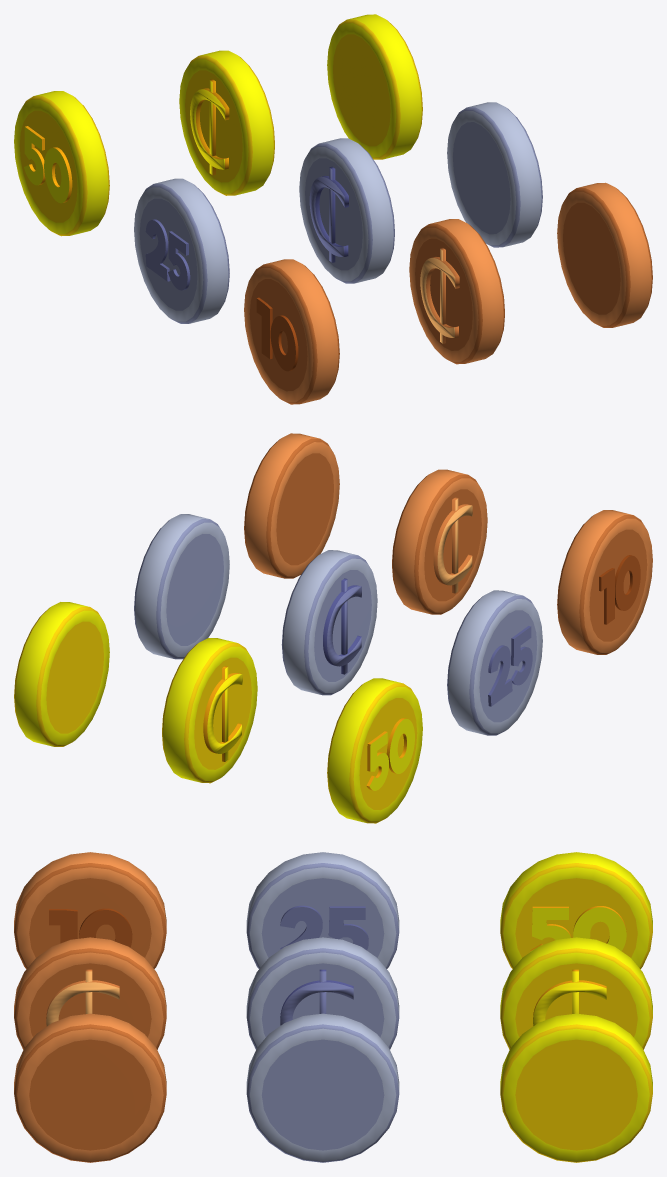
Rendered from cashierrun.coins.fbx.
3 views of the same model, one above another, from view 1: azimuth 30°, elevation 25°; view 2: azimuth 150°, elevation 25°; view 3: azimuth 270°, elevation 25° (orthographic). The views are drawn at different scales.
Visible parts, largest first — view 1: cashierrun_collectible.coin.silver, cashierrun_coin.c.silver, cashierrun_collectible.coin.bronze, cashierrun_coin.c.bronze, cashierrun_coin.flat.bronze, cashierrun_collectible.coin.gold, cashierrun_coin.c.gold, cashierrun_coin.flat.silver, cashierrun_coin.flat.gold; view 2: cashierrun_coin.c.silver, cashierrun_collectible.coin.gold, cashierrun_collectible.coin.bronze, cashierrun_coin.c.gold, cashierrun_coin.flat.gold, cashierrun_collectible.coin.silver, cashierrun_coin.c.bronze, cashierrun_coin.flat.bronze, cashierrun_coin.flat.silver; view 3: cashierrun_coin.flat.silver, cashierrun_coin.flat.bronze, cashierrun_coin.flat.gold, cashierrun_collectible.coin.silver, cashierrun_collectible.coin.bronze, cashierrun_collectible.coin.gold, cashierrun_coin.c.silver, cashierrun_coin.c.bronze, cashierrun_coin.c.gold.
Boxes of the visible parts, <box> form: cashierrun_collectible.coin.silver: <box>134,178,229,323</box>; cashierrun_coin.c.silver: <box>299,138,394,283</box>; cashierrun_collectible.coin.bronze: <box>244,259,339,404</box>; cashierrun_coin.c.bronze: <box>409,219,504,364</box>; cashierrun_coin.flat.bronze: <box>557,182,652,327</box>; cashierrun_collectible.coin.gold: <box>14,91,109,236</box>; cashierrun_coin.c.gold: <box>179,50,274,195</box>; cashierrun_coin.flat.silver: <box>447,102,542,247</box>; cashierrun_coin.flat.gold: <box>327,14,422,159</box>; cashierrun_coin.c.silver: <box>281,550,377,695</box>; cashierrun_collectible.coin.gold: <box>327,678,422,823</box>; cashierrun_collectible.coin.bronze: <box>557,510,652,654</box>; cashierrun_coin.c.gold: <box>162,638,257,783</box>; cashierrun_coin.flat.gold: <box>14,602,109,746</box>; cashierrun_collectible.coin.silver: <box>447,590,542,735</box>; cashierrun_coin.c.bronze: <box>392,469,487,614</box>; cashierrun_coin.flat.bronze: <box>244,433,339,578</box>; cashierrun_coin.flat.silver: <box>134,514,229,659</box>; cashierrun_coin.flat.silver: <box>246,1013,399,1162</box>; cashierrun_coin.flat.bronze: <box>14,1013,166,1162</box>; cashierrun_coin.flat.gold: <box>500,1013,652,1162</box>; cashierrun_collectible.coin.silver: <box>246,852,399,968</box>; cashierrun_collectible.coin.bronze: <box>14,852,166,969</box>; cashierrun_collectible.coin.gold: <box>500,852,652,969</box>; cashierrun_coin.c.silver: <box>246,937,399,1049</box>; cashierrun_coin.c.bronze: <box>14,937,166,1049</box>; cashierrun_coin.c.gold: <box>500,937,652,1049</box>.
Bounding box in the file's own units: 1.98 × 0.7225 × 3.02.
